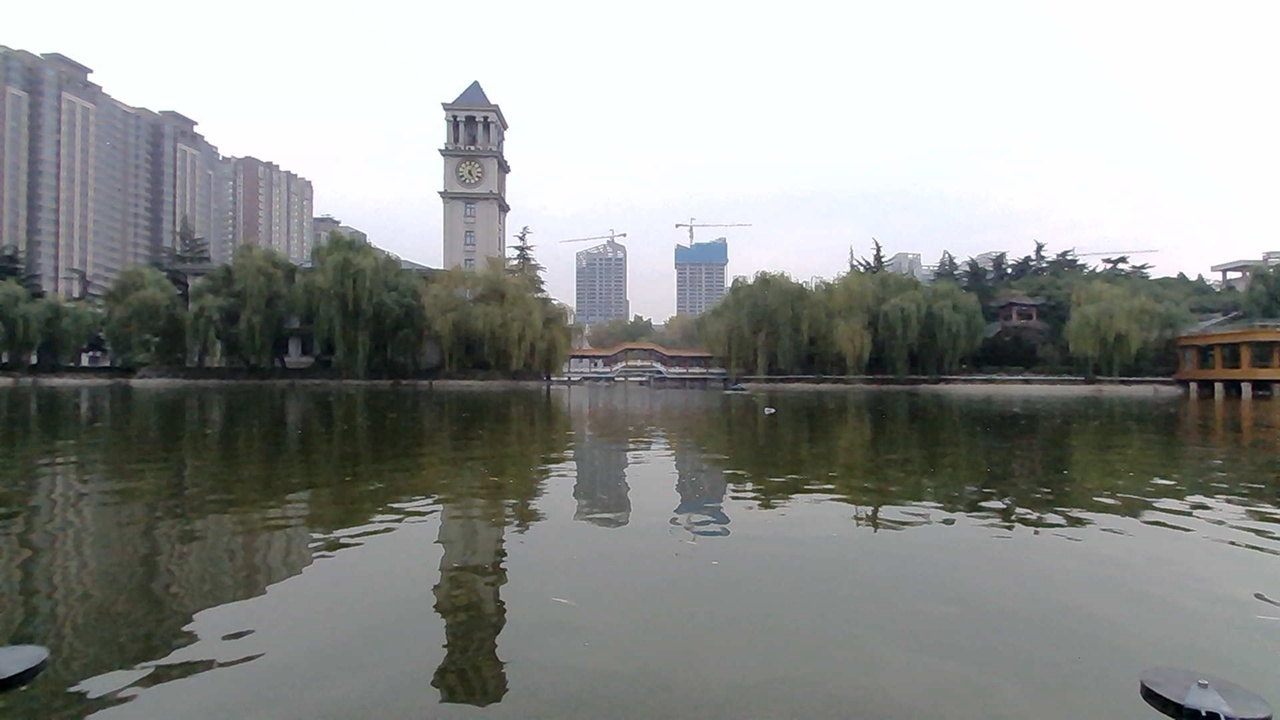bottle: (753, 397, 799, 421)
